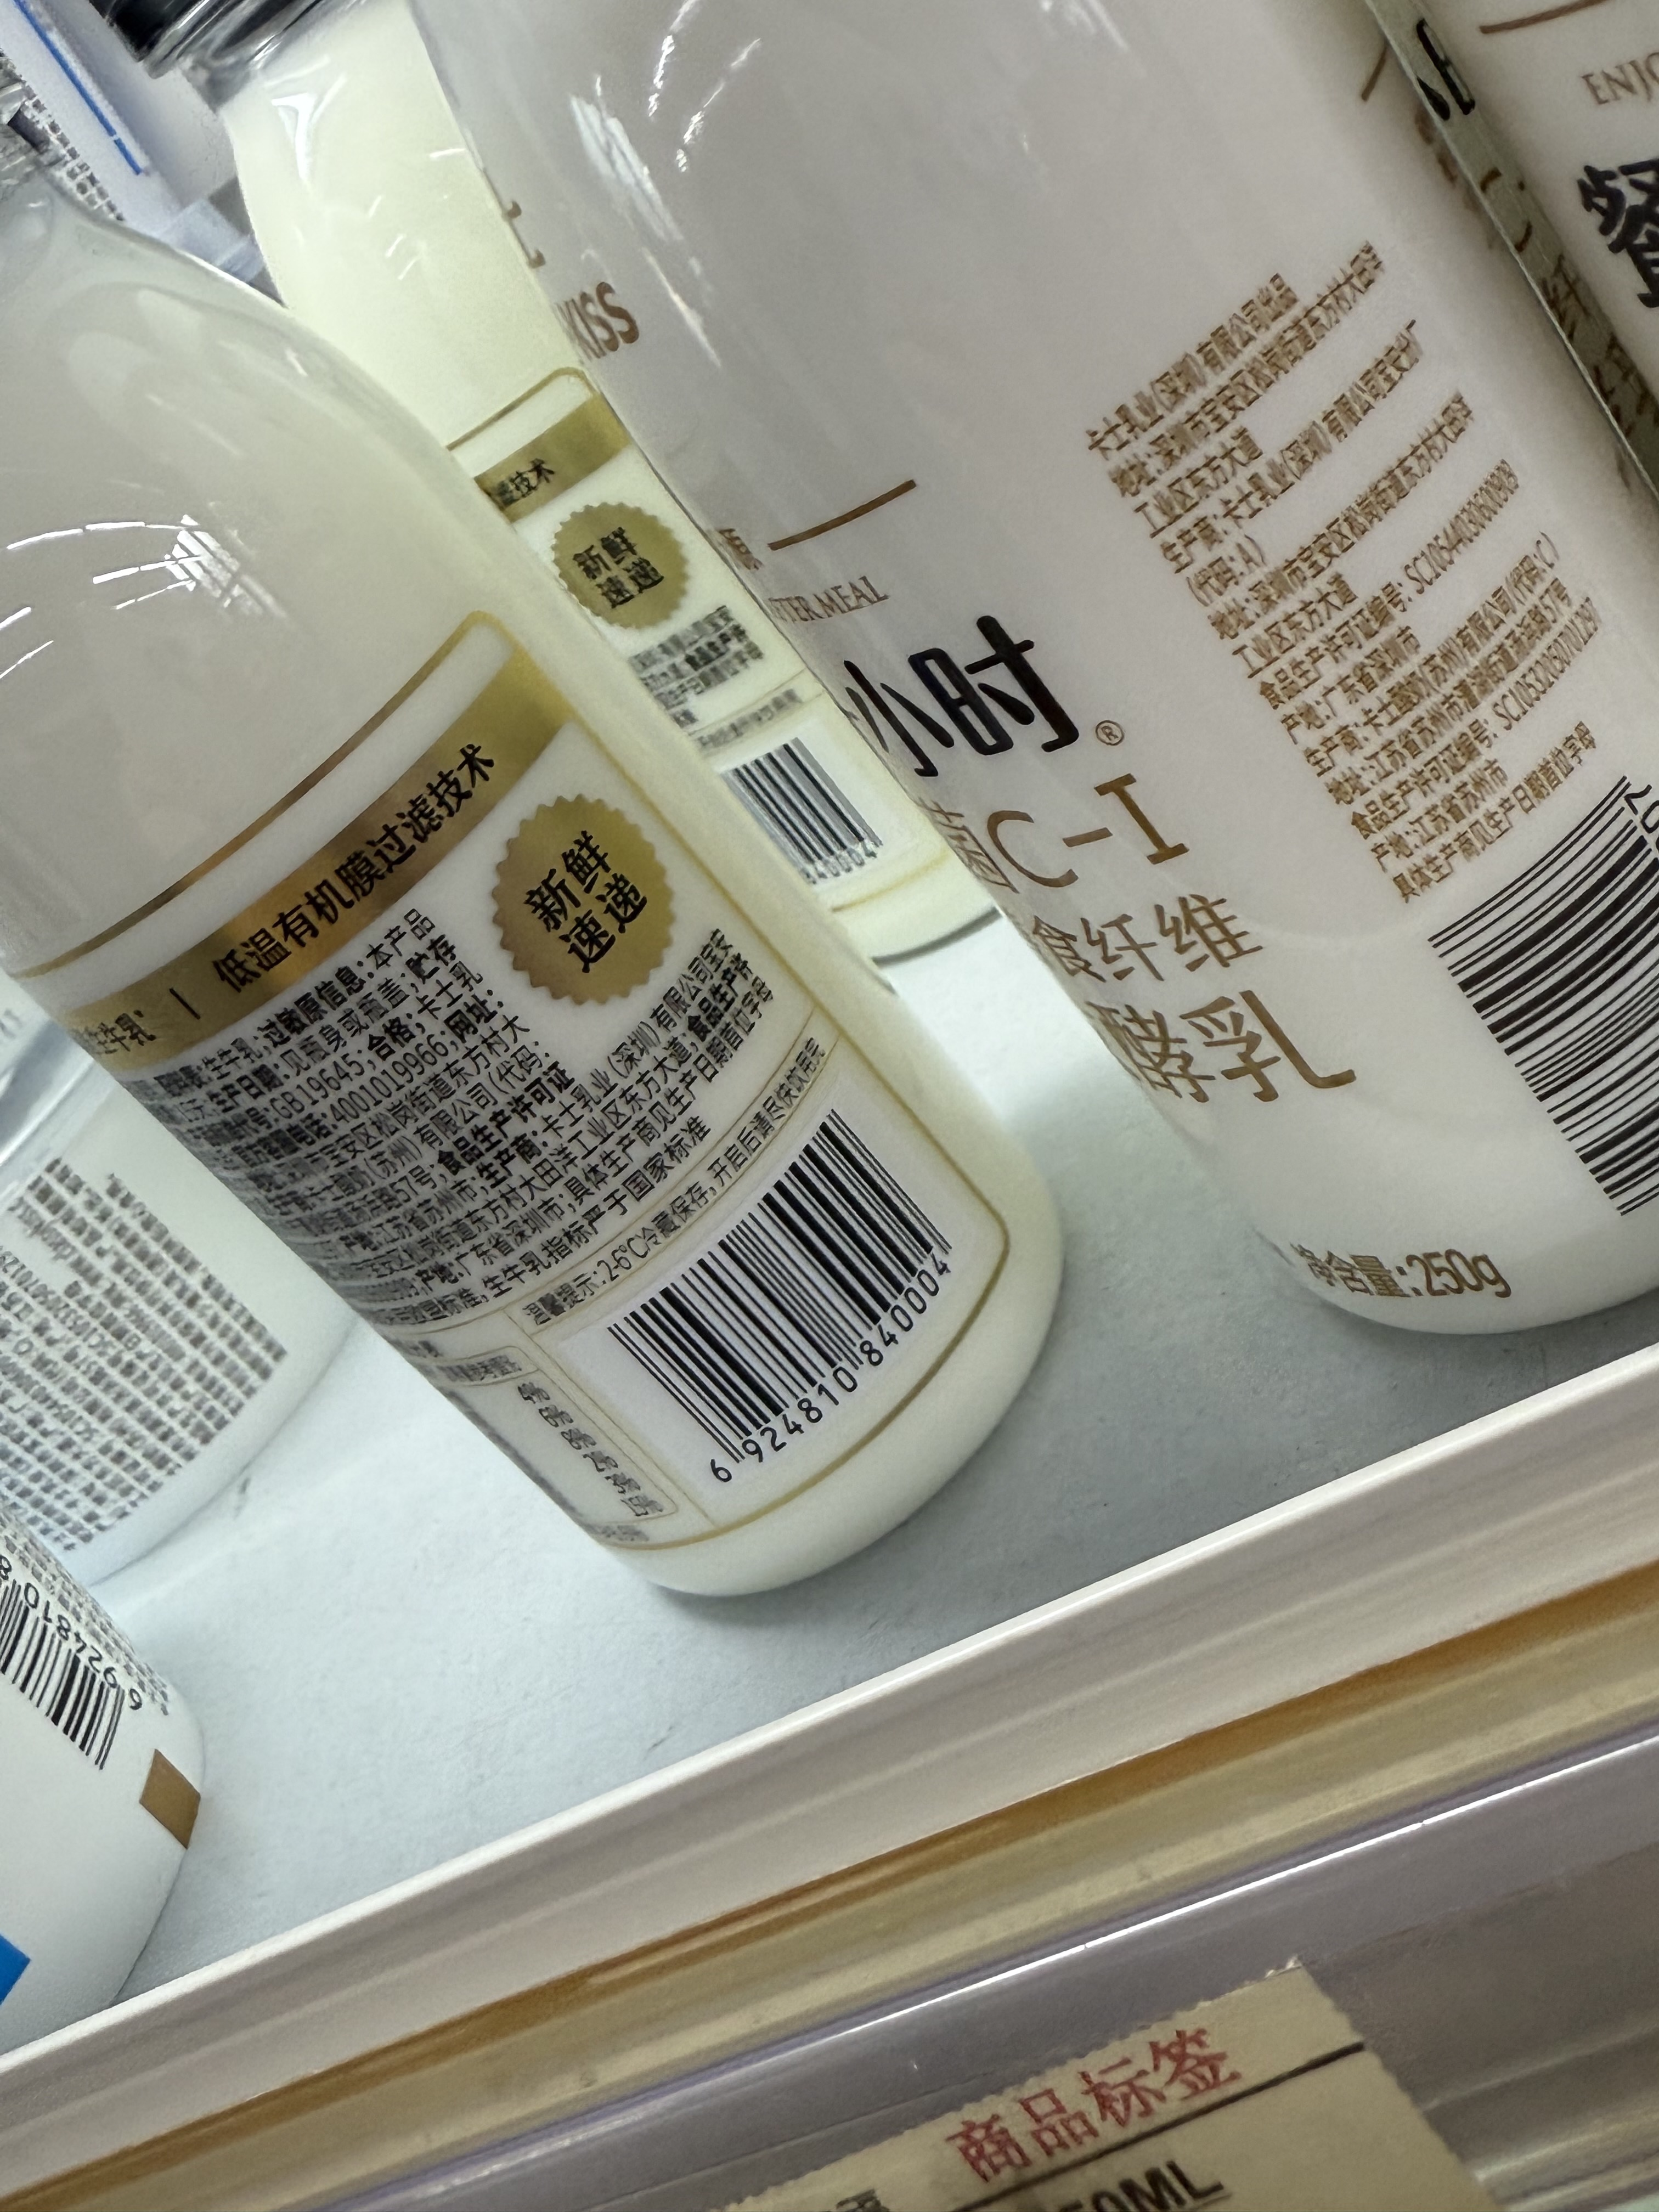bar: (603, 1103, 964, 1474), (1415, 765, 1659, 1228)
